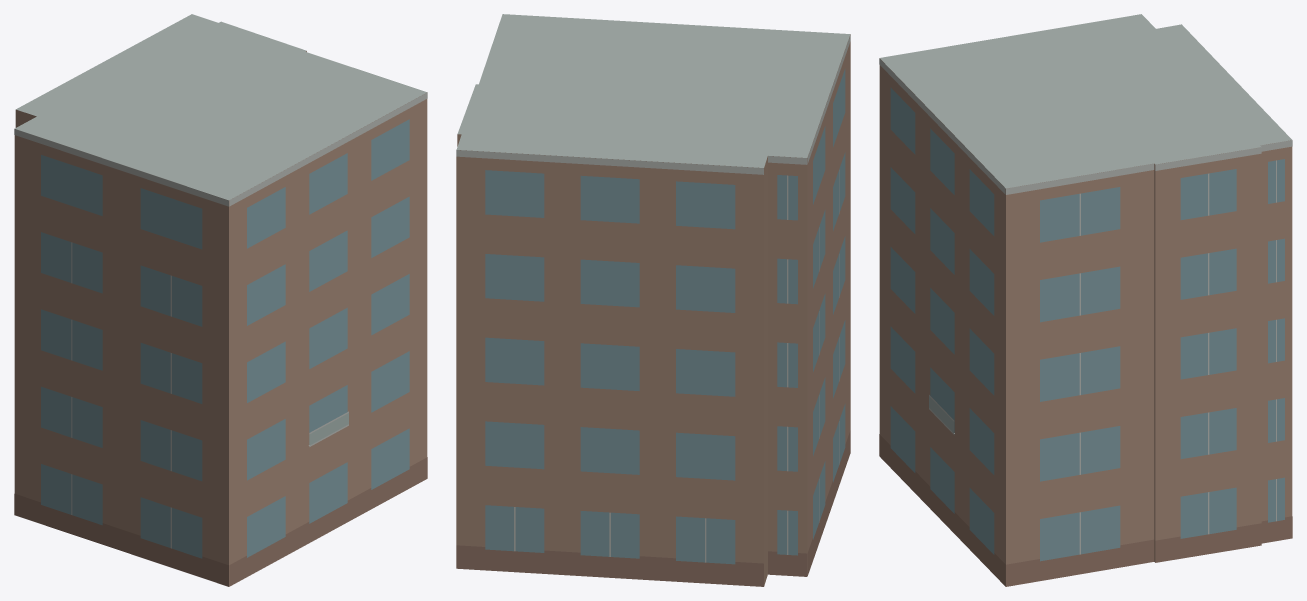
The model's file is survey-upis-32976108.glb.
3 renders of one model, left to right at view 1: azimuth 30°, elevation 25°; view 2: azimuth 150°, elevation 25°; view 3: azimuth 270°, elevation 25°, orthographic. The views are drawn at different scales.
Parts seen in each view (by area): view 1: survey-upis-32976108.tmp; view 2: survey-upis-32976108.tmp; view 3: survey-upis-32976108.tmp.
Boxes of the visible parts, x1,y1,x2,y2 form: survey-upis-32976108.tmp: (14, 14, 427, 586); survey-upis-32976108.tmp: (456, 14, 850, 586); survey-upis-32976108.tmp: (879, 14, 1292, 586).
Size of the model in its own units: 14.11 by 15 by 14.11.
